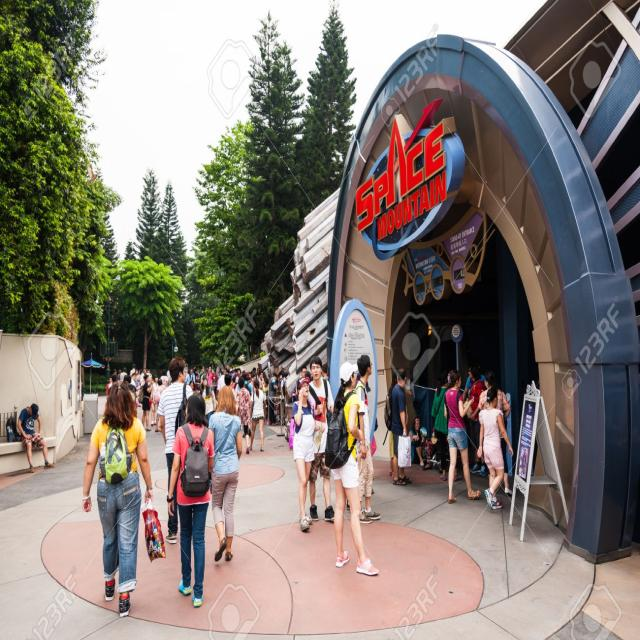body: (80, 378, 168, 620), (322, 359, 381, 578), (164, 391, 217, 610), (156, 356, 194, 544), (206, 384, 243, 563), (442, 368, 482, 504), (292, 376, 326, 533), (306, 354, 336, 523), (475, 385, 515, 511), (353, 353, 382, 524), (478, 371, 513, 498), (431, 371, 464, 483), (15, 402, 56, 474), (390, 366, 414, 488), (465, 361, 489, 478), (462, 361, 486, 469), (104, 362, 152, 408), (383, 368, 401, 479), (246, 377, 267, 453), (235, 377, 252, 455), (161, 364, 224, 382), (224, 365, 278, 383), (408, 416, 425, 467), (141, 374, 153, 432), (154, 378, 166, 434), (203, 384, 218, 428), (280, 371, 290, 426), (268, 373, 278, 427), (150, 373, 160, 426), (403, 366, 416, 402), (352, 372, 371, 394), (422, 454, 443, 473), (296, 365, 308, 396), (216, 368, 226, 400), (362, 482, 374, 498), (262, 380, 269, 404), (321, 364, 331, 380), (344, 496, 354, 511), (206, 365, 213, 386), (190, 367, 196, 384)
